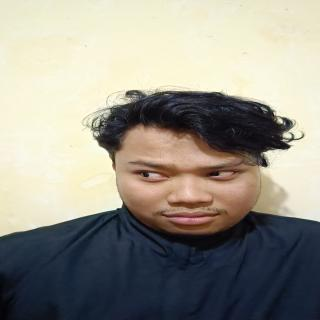Takut: (102, 116, 267, 243)
